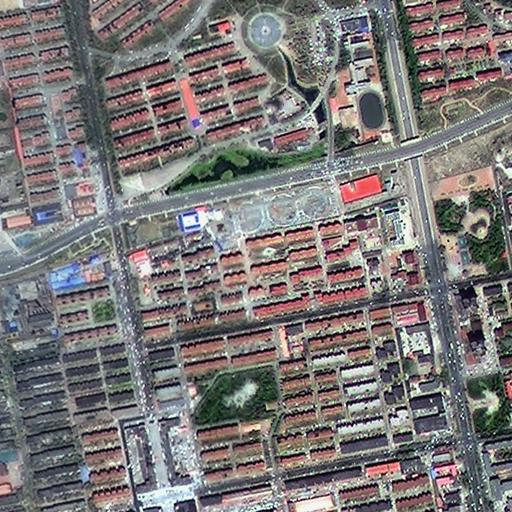school: (327, 13, 399, 160)
